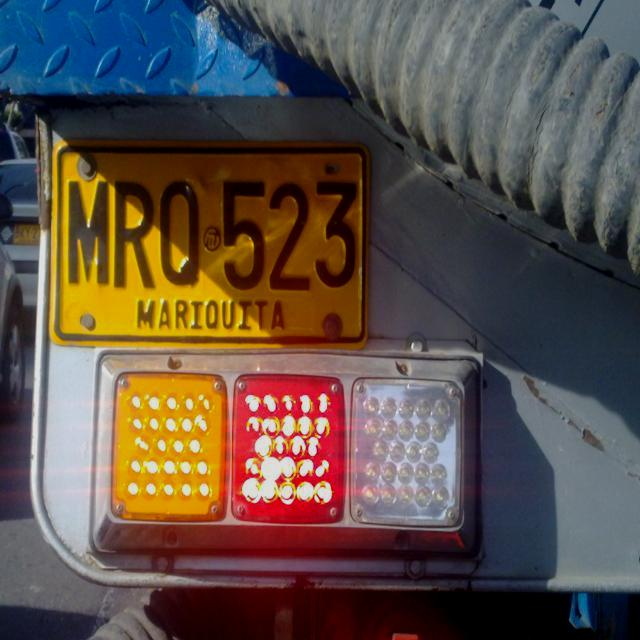placa: (48, 134, 371, 356)
